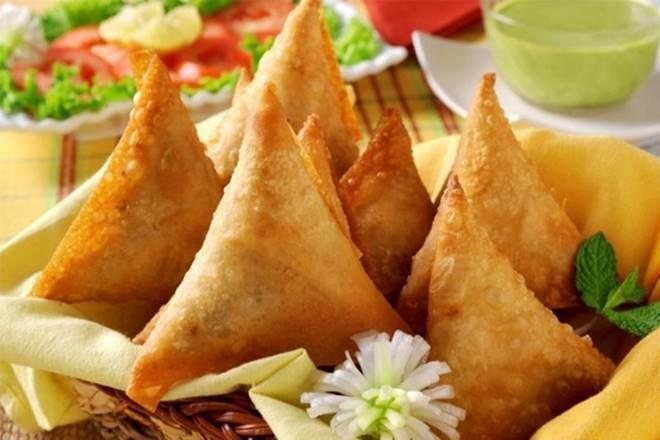samosa: (128, 85, 407, 408), (428, 177, 614, 440), (34, 50, 222, 309), (452, 73, 583, 309), (253, 0, 361, 176)
